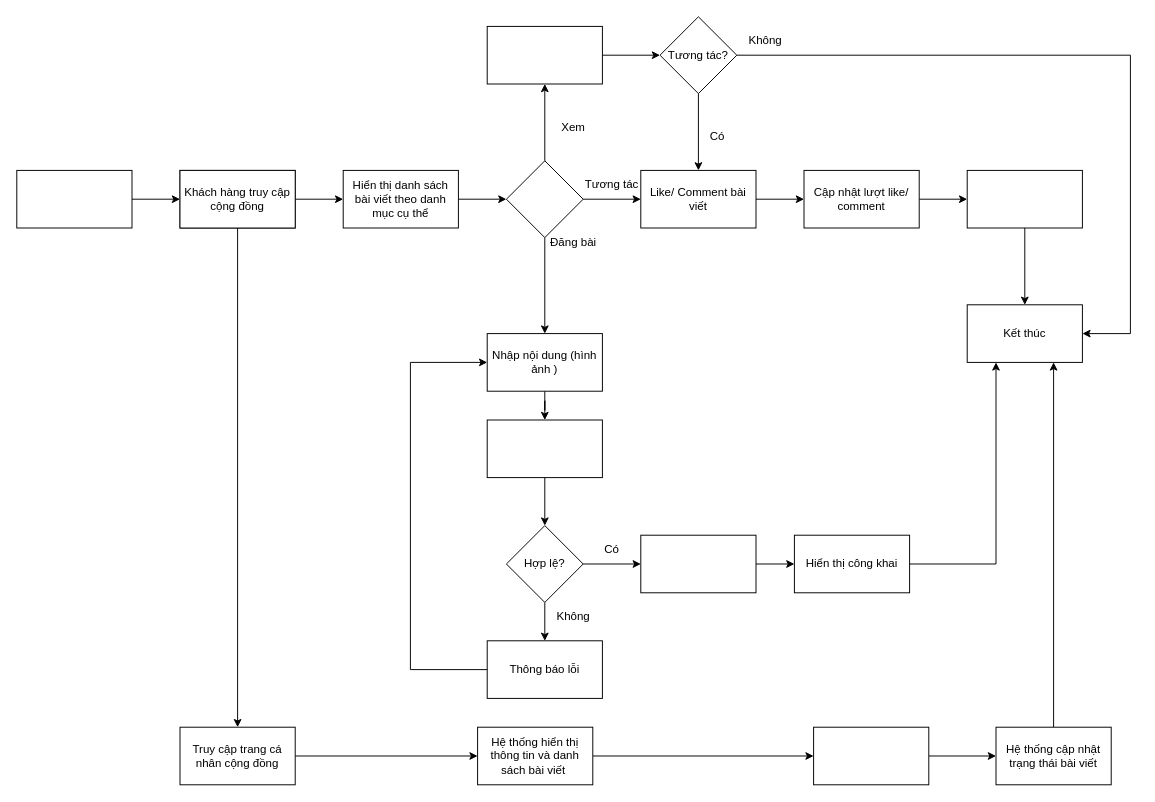
Some shapes in this 1155 by 802 pixel diagram are drawn without their labels. Here are the shapes that lost their labels. From the top down, the centre of each, then its label:
the point at 544,54: Xem chi tiết bài viết (comment)
the point at 74,198: Khách hàng đăng nhập
the point at 544,199: Chọn thao tác?
the point at 1024,198: Gửi thông báo đến chủ bài/ chủ comment
the point at 544,448: Hệ thống kiểm tra nội dung
the point at 698,563: Lưu bài vết
the point at 871,755: Xóa bài viết
